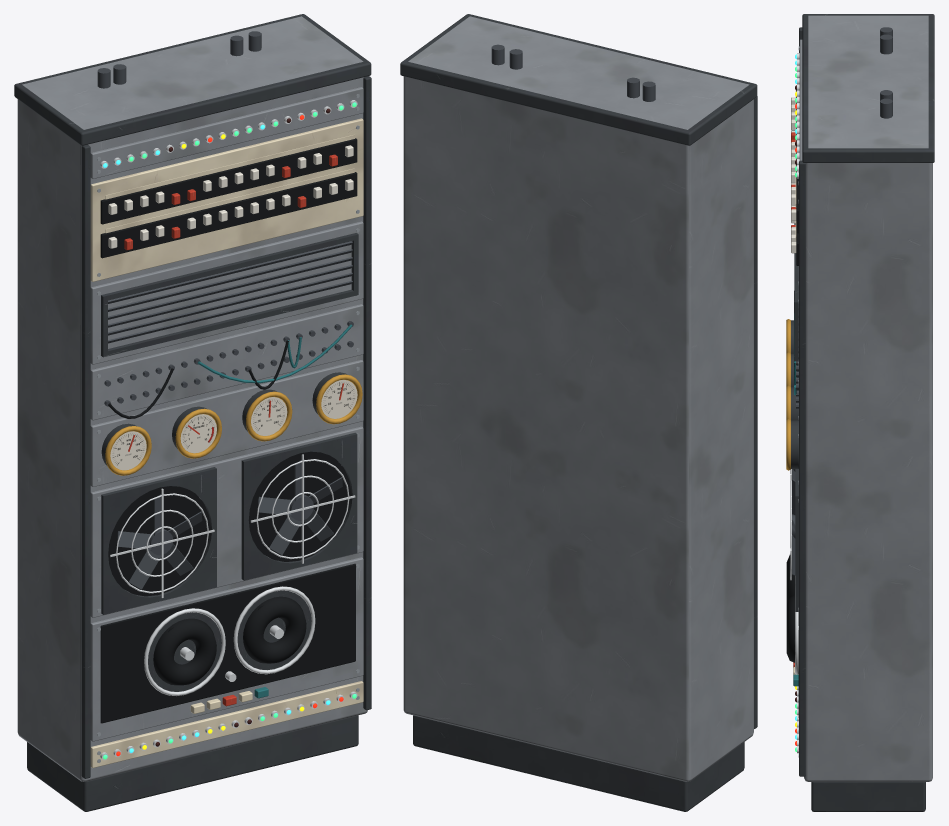
File: Rack_90_4.glb
3 views of the same model, side by side, from view 1: azimuth 30°, elevation 25°; view 2: azimuth 150°, elevation 25°; view 3: azimuth 270°, elevation 25° (orthographic). The views are drawn at different scales.
Visible parts, largest first — view 1: Rack_90_4_Body; view 2: Rack_90_4_Body; view 3: Rack_90_4_Body.
Part boxes in pixels (x1=…): Rack_90_4_Body: x1=14, y1=14, x2=371, y2=811; Rack_90_4_Body: x1=400, y1=14, x2=757, y2=811; Rack_90_4_Body: x1=786, y1=14, x2=934, y2=811.
Size of the model in its own units: 0.91 by 2.1 by 0.4148.
Materials: 19 (8 with a texture image).
